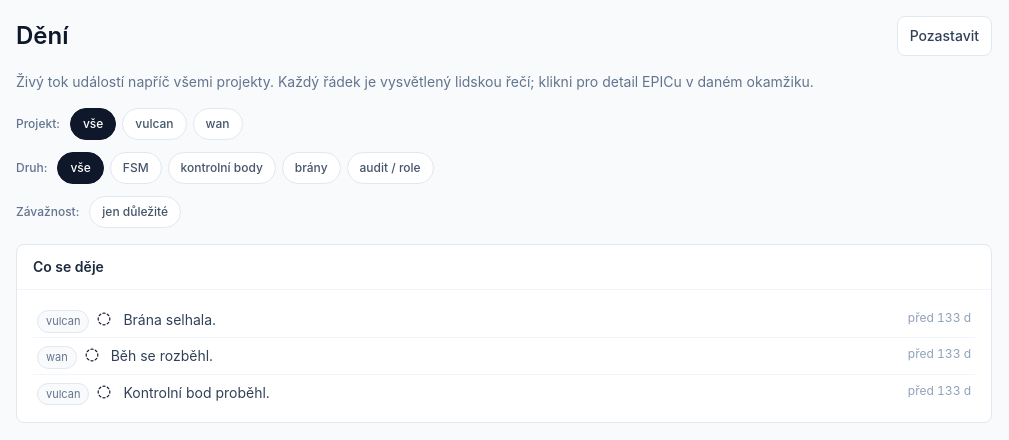
Test: ScreenD — merged live activity stream › "jen důležité" severity filter keeps only the failing event
Expected: the list is shown, 33,302 -> 975,410
Click the button "jen důležité" at (135, 212), box 89,196 -> 181,228
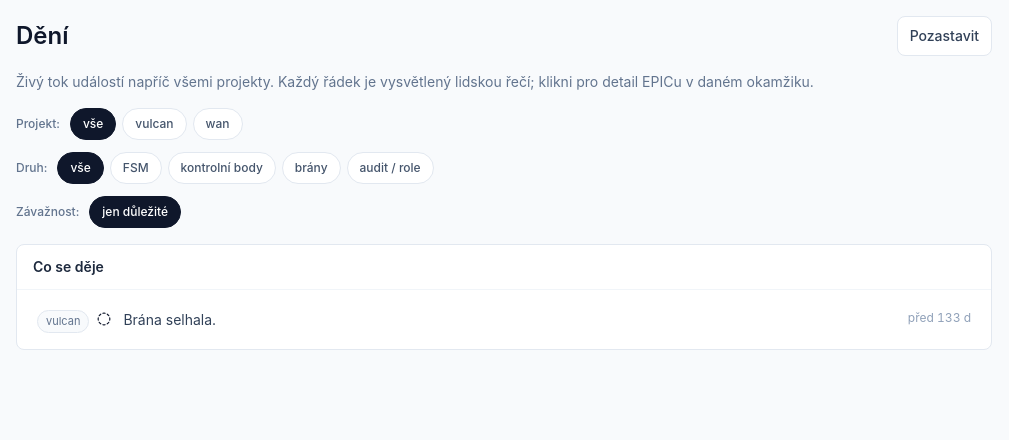
Expected: the list shows "Brána selhala.", 33,302 -> 975,337
Expected: the number of links is 1, 33,302 -> 975,337
